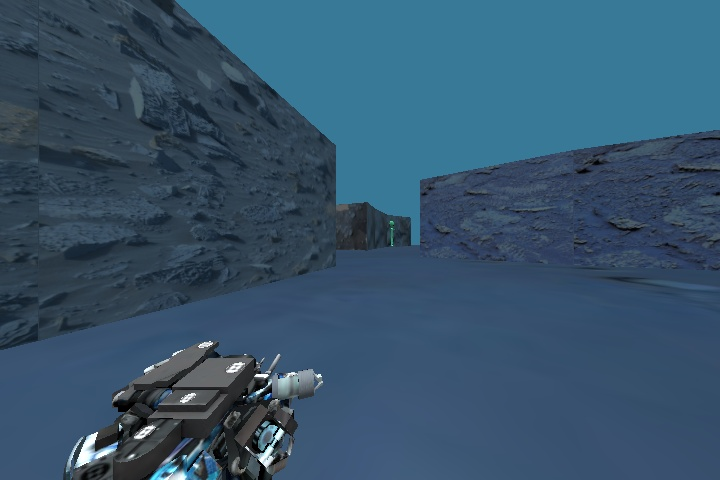green_alien: (386, 218, 397, 248)
